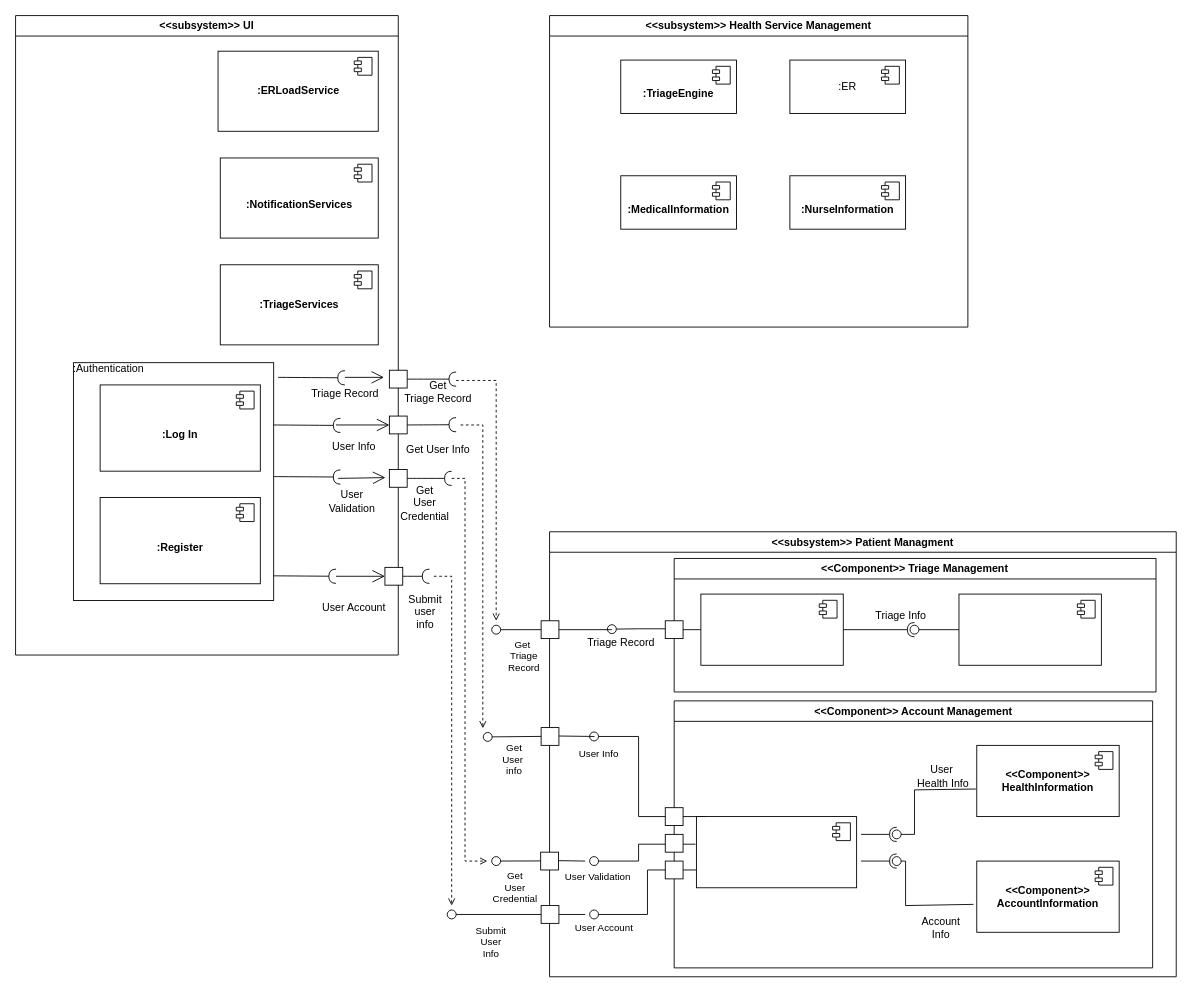
Some shapes in this 1193 by 1001 pixel diagram are drawn without their labels. The centre of each missing label's shape, as x and y in pixels:
<<Component>> AccountInformationMangement: [776,852]
<<Component>> TriageRecord: [1029,629]
<<Component>> TriageRecordManagement: [771,629]
